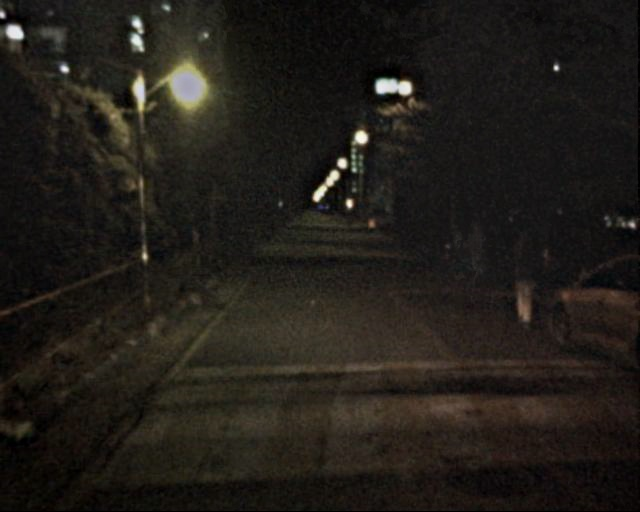person: (505, 229, 545, 327), (465, 220, 501, 297), (445, 227, 479, 298)
